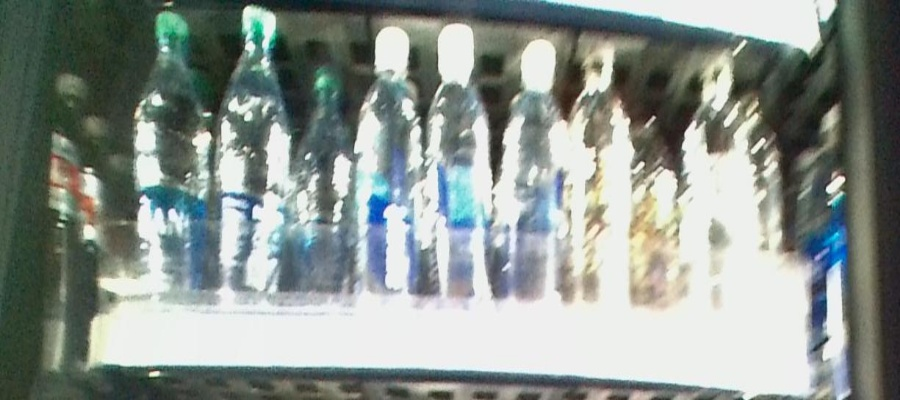bottle: (131, 9, 208, 301), (424, 17, 494, 302), (215, 4, 278, 302), (356, 24, 417, 301), (570, 38, 633, 303), (501, 43, 565, 299), (293, 49, 352, 300)
